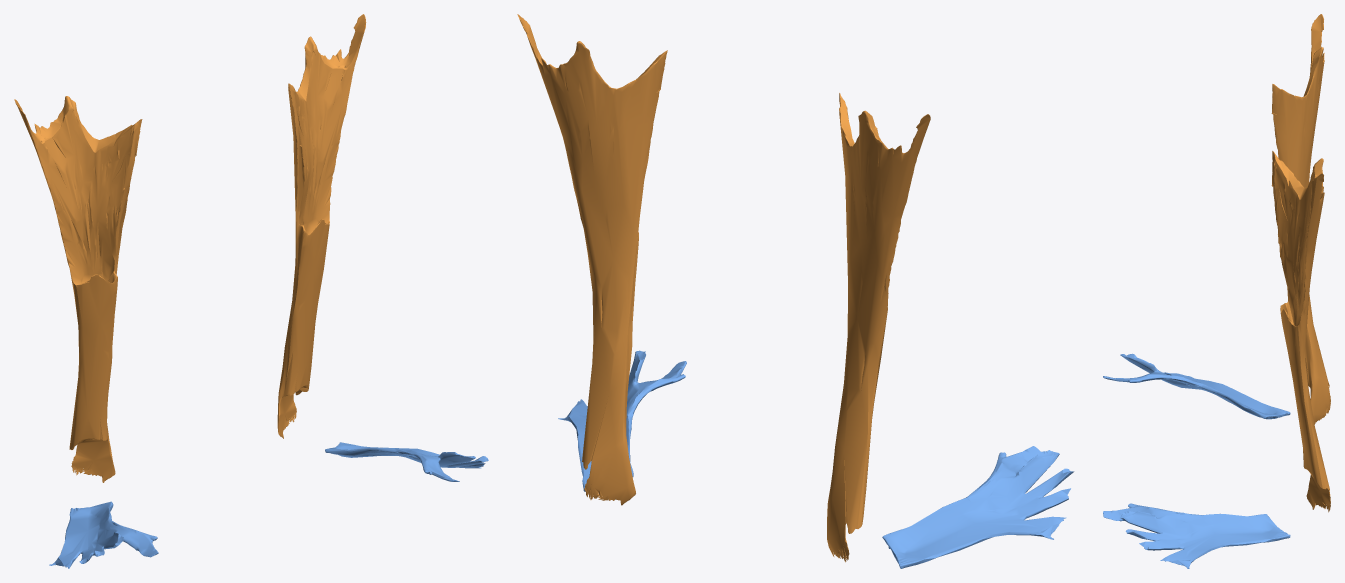
The model's file is supplement-ankle-foot-connective.glb.
3 views of the same model, side by side, from view 1: azimuth 30°, elevation 25°; view 2: azimuth 150°, elevation 25°; view 3: azimuth 270°, elevation 25° (orthographic). The views are drawn at different scales.
Visible parts, largest first — view 1: supplemental:calcaneal-tendon:isa:FJ1405, supplemental:calcaneal-tendon:isa:FJ1405M, supplemental:long-plantar-ligament:isa:FJ1424, supplemental:long-plantar-ligament:isa:FJ1424M; view 2: supplemental:calcaneal-tendon:isa:FJ1405M, supplemental:calcaneal-tendon:isa:FJ1405, supplemental:long-plantar-ligament:isa:FJ1424, supplemental:long-plantar-ligament:isa:FJ1424M; view 3: supplemental:calcaneal-tendon:isa:FJ1405M, supplemental:calcaneal-tendon:isa:FJ1405, supplemental:long-plantar-ligament:isa:FJ1424M, supplemental:long-plantar-ligament:isa:FJ1424.
Part boxes in pixels (x1,y1,x2,y2): supplemental:calcaneal-tendon:isa:FJ1405: (14, 96, 142, 482); supplemental:calcaneal-tendon:isa:FJ1405M: (277, 14, 366, 438); supplemental:long-plantar-ligament:isa:FJ1424: (49, 501, 158, 568); supplemental:long-plantar-ligament:isa:FJ1424M: (325, 442, 488, 481); supplemental:calcaneal-tendon:isa:FJ1405M: (517, 14, 667, 505); supplemental:calcaneal-tendon:isa:FJ1405: (827, 93, 930, 562); supplemental:long-plantar-ligament:isa:FJ1424: (882, 446, 1074, 568); supplemental:long-plantar-ligament:isa:FJ1424M: (558, 350, 686, 491); supplemental:calcaneal-tendon:isa:FJ1405M: (1271, 151, 1330, 512); supplemental:calcaneal-tendon:isa:FJ1405: (1271, 14, 1330, 424); supplemental:long-plantar-ligament:isa:FJ1424M: (1103, 503, 1290, 568); supplemental:long-plantar-ligament:isa:FJ1424: (1103, 353, 1290, 419).
Size of the model in its own units: 0.2357 by 0.2189 by 0.1179.
